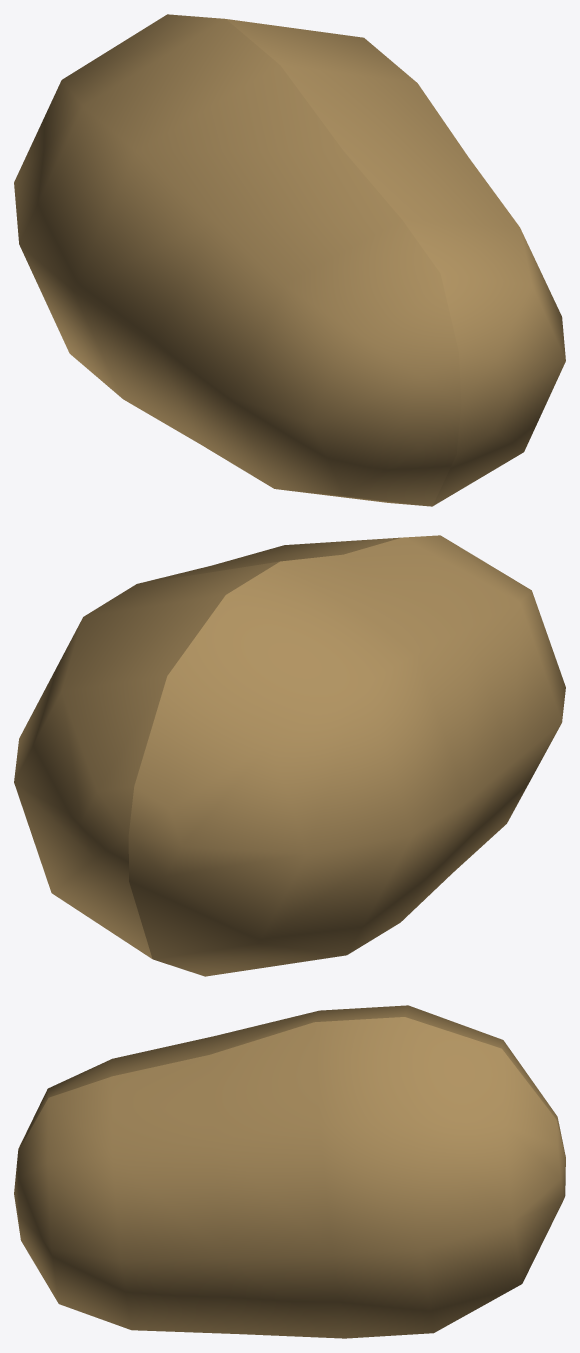
Rendered from M_Food_Potato_001.fbx.
3 renders of one model, top to bottom at view 1: azimuth 30°, elevation 25°; view 2: azimuth 150°, elevation 25°; view 3: azimuth 270°, elevation 25°, orthographic. The views are drawn at different scales.
Visible parts, largest first — view 1: Potato; view 2: Potato; view 3: Potato.
Part boxes in pixels (bbox=[...]): Potato: bbox=[14, 14, 565, 506]; Potato: bbox=[14, 535, 565, 976]; Potato: bbox=[14, 1005, 565, 1338].
Bounding box in the file's own units: 29.36 × 26.56 × 42.95.
